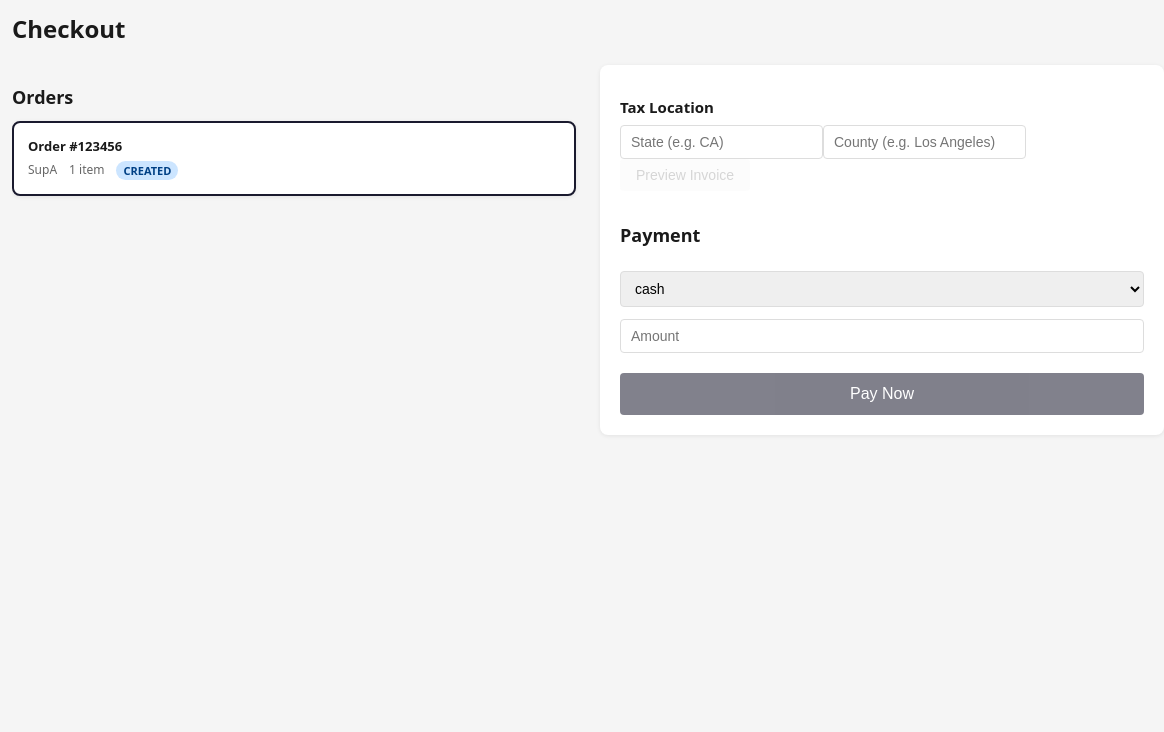
Test: CheckoutPage › loads invoice preview when state and county are filled and button clicked
Type "CA" into the field with placeholder "State (e.g. CA)". click: (722, 142)
box: [620, 125, 823, 159]
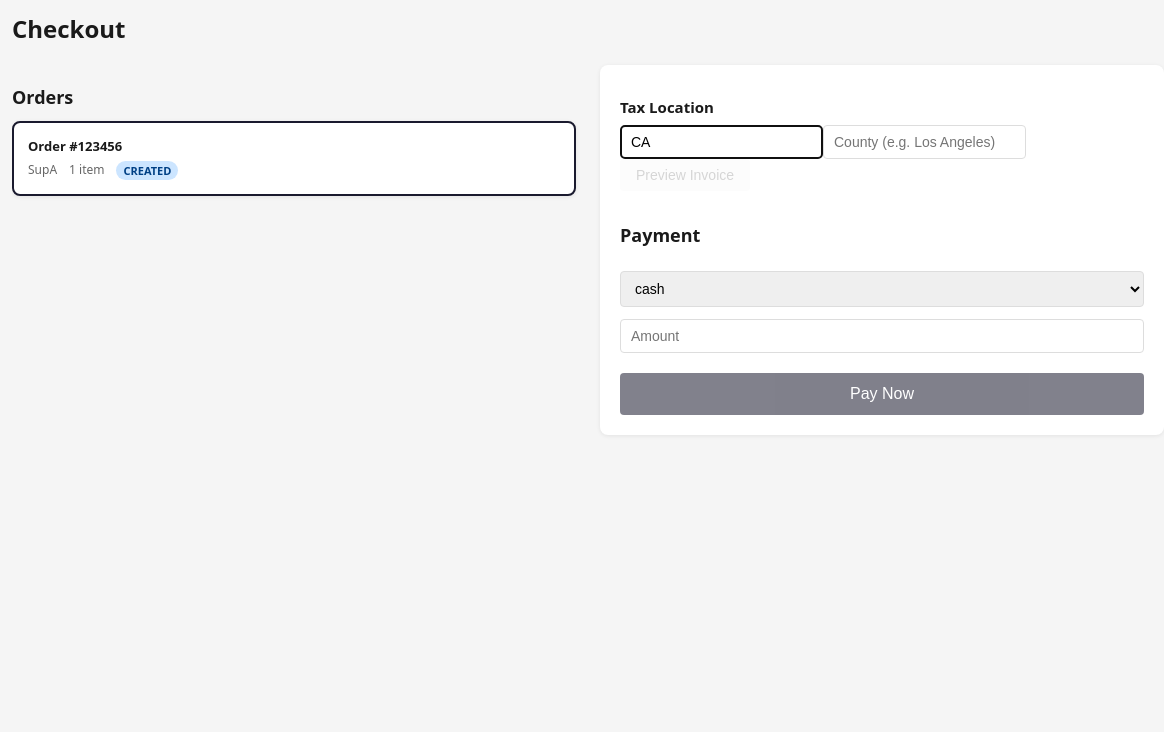
Type "Los Angeles" into the field with placeholder "County (e.g. Los Angeles)". click: (924, 142)
box: [823, 125, 1026, 159]
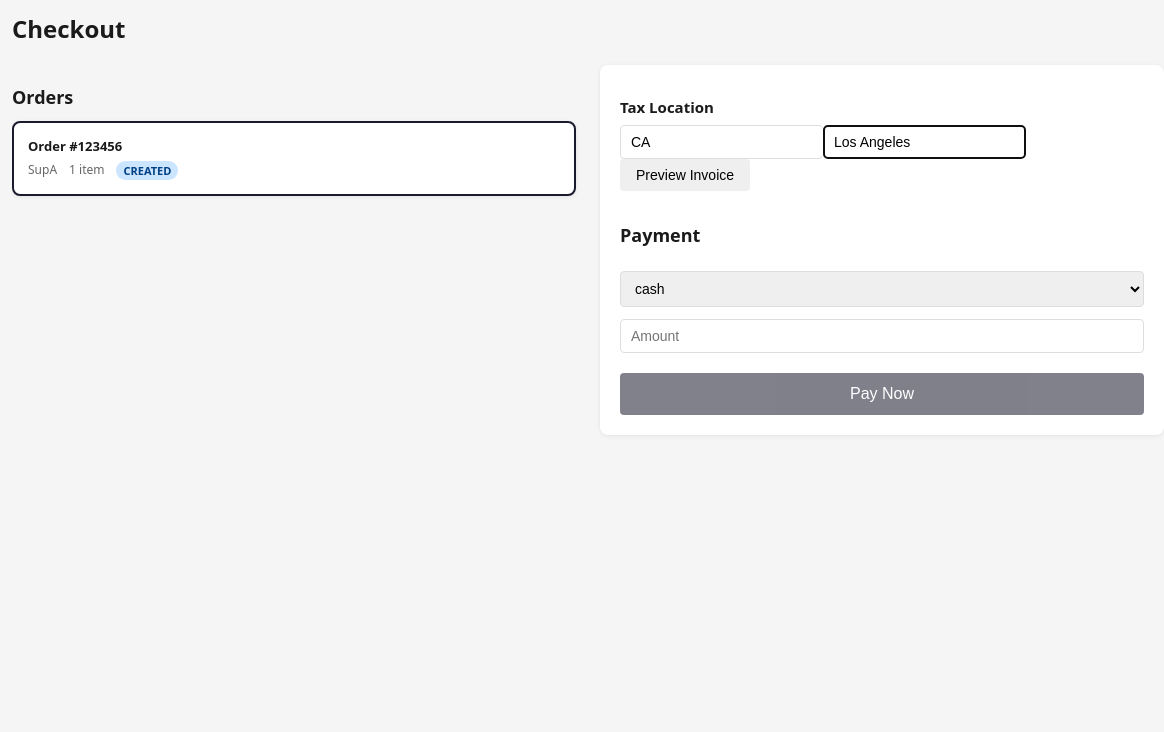
Result: the button "Preview Invoice" is enabled
Click the button "Preview Invoice". click: click(685, 175)
box: [620, 159, 750, 191]
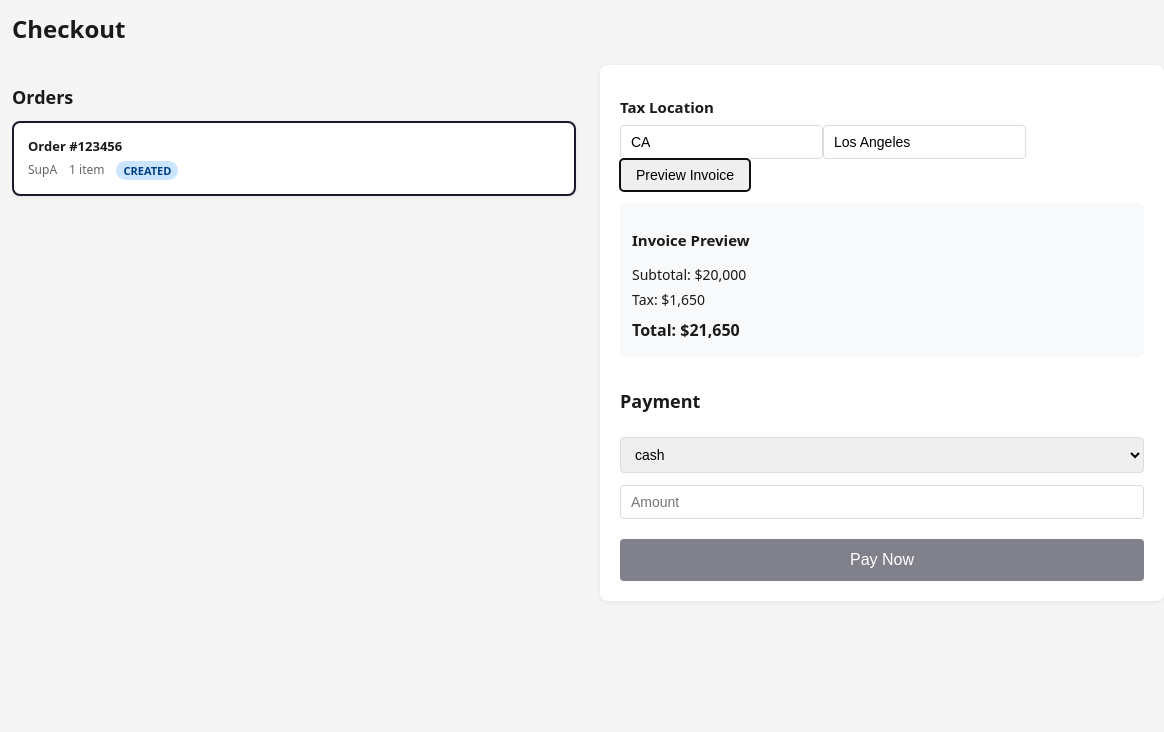
Result: the heading "Invoice Preview" is shown at [632, 230, 750, 250]
